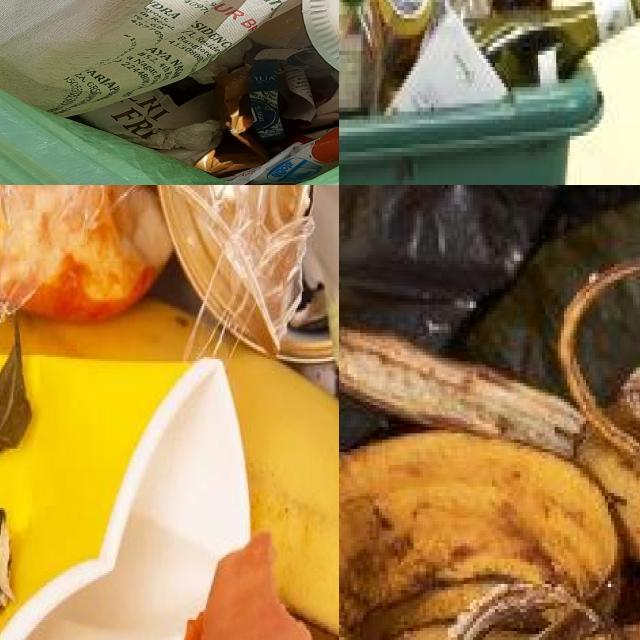Garbage: (0, 185, 339, 640), (339, 244, 640, 640), (339, 0, 640, 120)
Glass_bottle: (467, 0, 640, 88)
Plastic: (339, 185, 640, 395)
Plastic_Bag: (249, 6, 311, 50)
Plastic_bottle: (339, 0, 382, 116)
Plastic_wraper: (80, 82, 221, 163), (194, 60, 287, 177), (228, 128, 339, 185), (280, 50, 339, 133)
can: (376, 0, 436, 107)
contaminated_waste: (0, 358, 249, 640), (158, 185, 332, 360)
